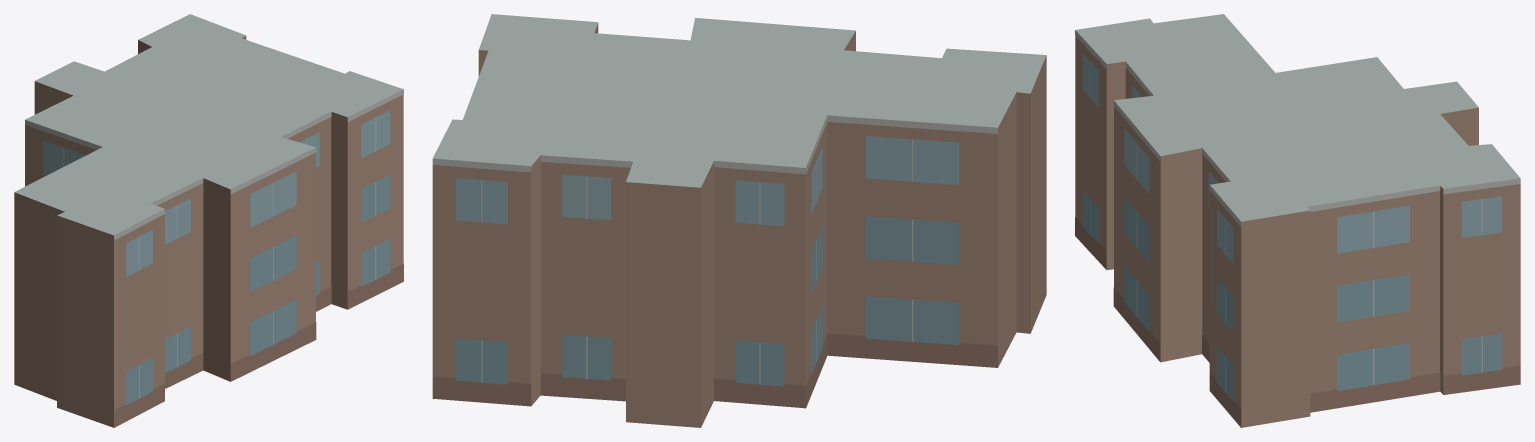
File: survey-upis-32891997.glb
The picture shows the model from 3 angles, left to right: view 1: azimuth 30°, elevation 25°; view 2: azimuth 150°, elevation 25°; view 3: azimuth 270°, elevation 25°; orthographic projection. The views are drawn at different scales.
Visible parts, largest first — view 1: survey-upis-32891997.tmp; view 2: survey-upis-32891997.tmp; view 3: survey-upis-32891997.tmp.
Boxes of the visible parts, left/top/right/bottom form: survey-upis-32891997.tmp: left=14, top=14, right=403, bottom=427; survey-upis-32891997.tmp: left=432, top=14, right=1046, bottom=427; survey-upis-32891997.tmp: left=1075, top=14, right=1520, bottom=427.
Size of the model in its own units: 19.79 by 9.15 by 17.93.
